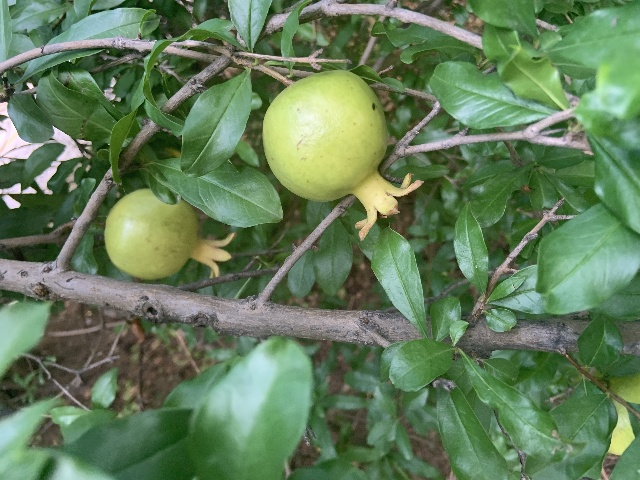mid-growth: (262, 70, 423, 239), (103, 187, 237, 280)
